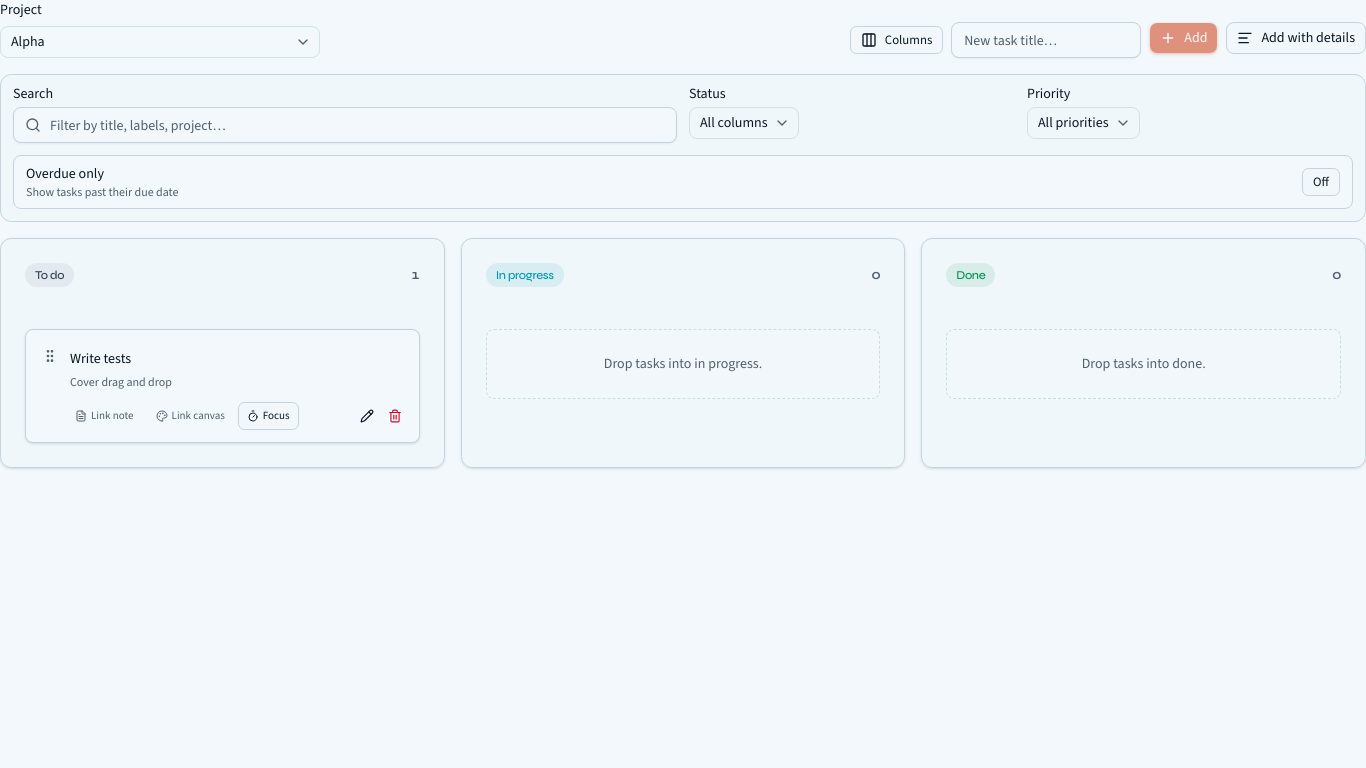
Scenario: Component: ProjectKanban › opens details dialog when editing a task
The image size is (1366, 768).
Click the button named "Edit task": (367, 416) [355,404,379,428]
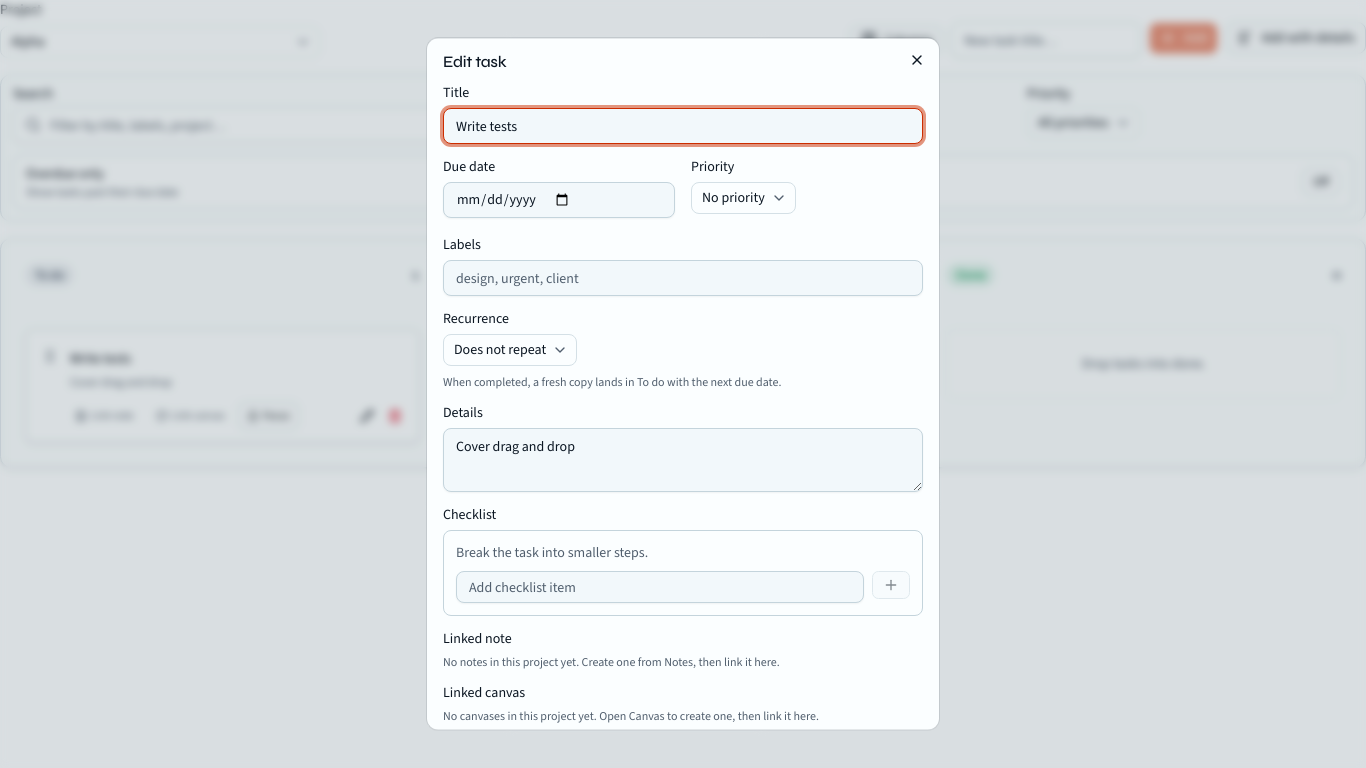
expect the heading "Edit task" is shown: met, box [443,52,506,71]
expect the text box showing "Cover drag and drop" is shown: met, box [443,428,923,492]
